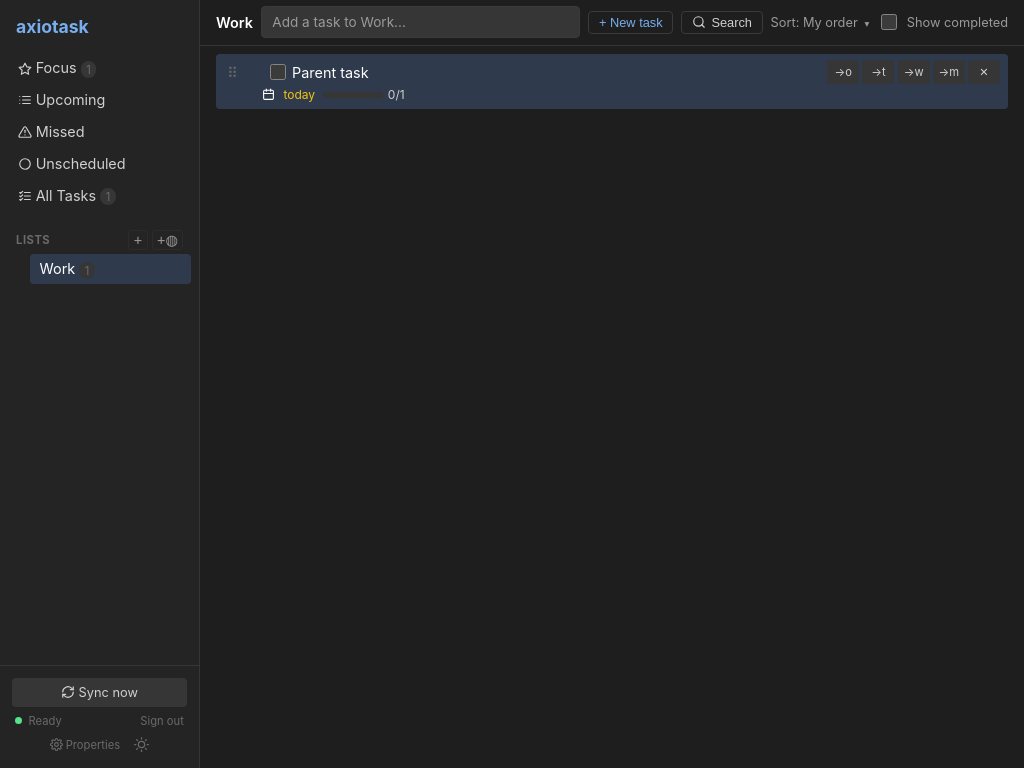
Scenario: GH#11: Complete/uncomplete with undo › Undo toast (10s) › completing a subtask offers an undo toast
Click the text "Parent task": (330, 72) [292,64,369,81]
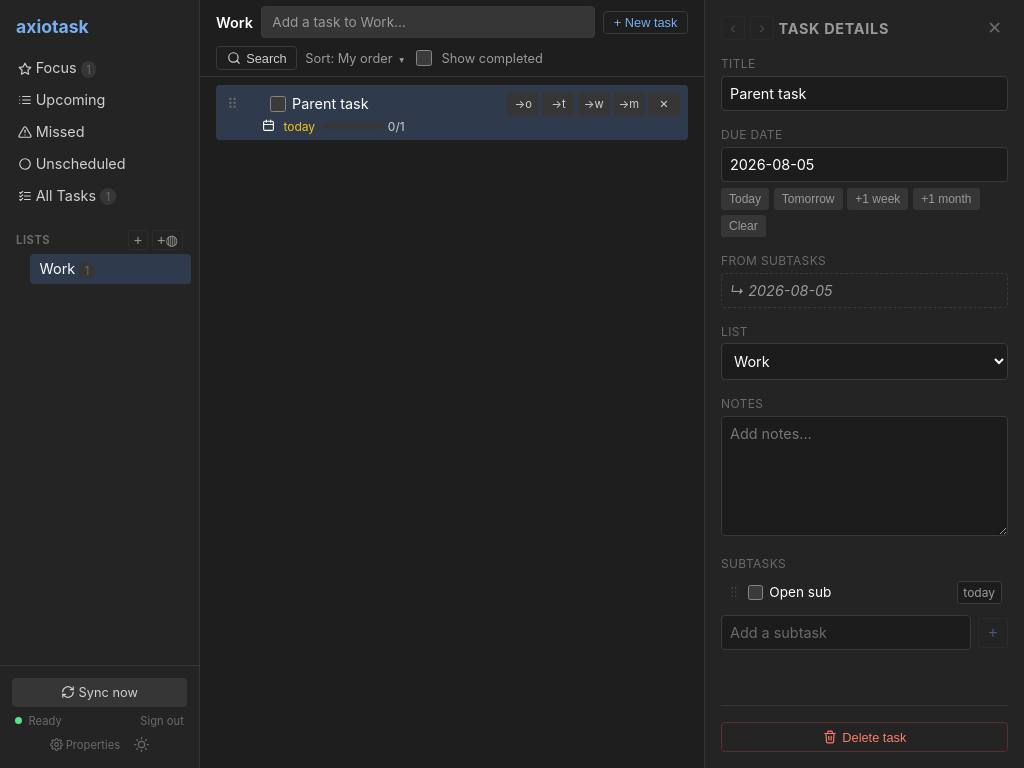
Expected: the text "Subtasks" is shown, [721,556,786,571]
Click the checkbox named "Mark Open sub complete": (755, 592) [748,585,763,600]
Wait 750 ms
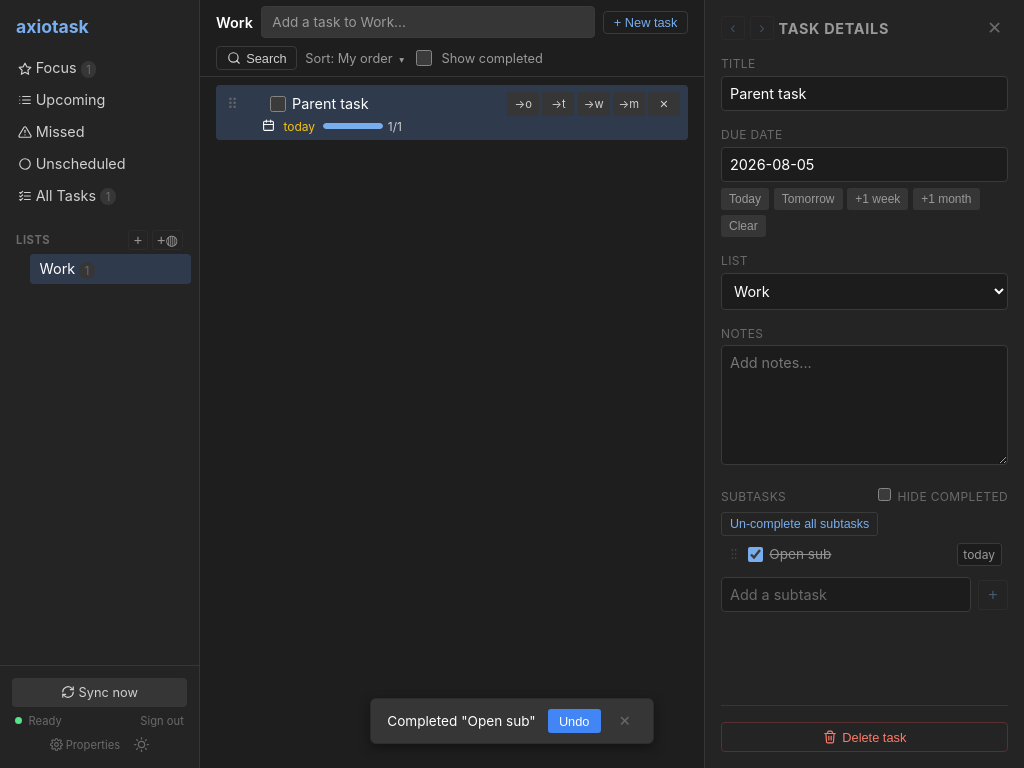
Expected: the text "Completed \"Open sub\"" is shown, [387,713,536,729]
Expected: the button "Undo" is shown, [548,709,601,733]
